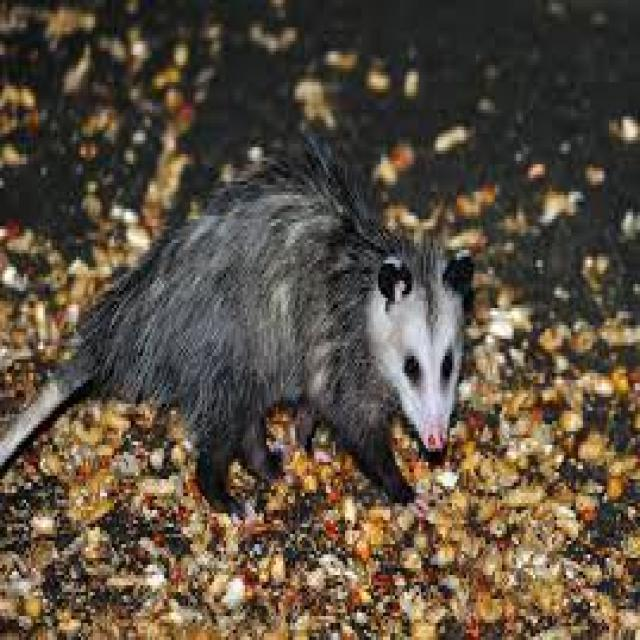Possum: (1, 141, 478, 521)
